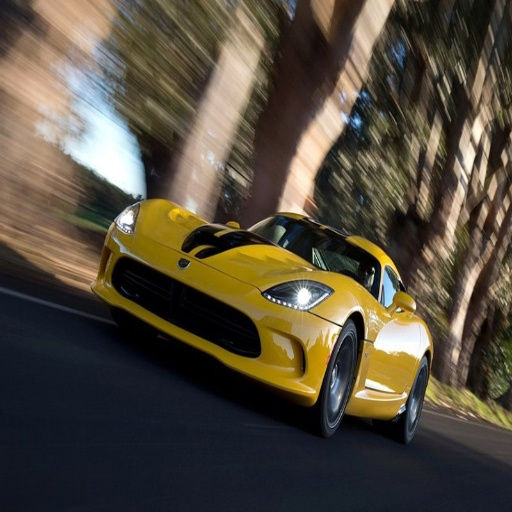front_left_light: (269, 281, 328, 308)
